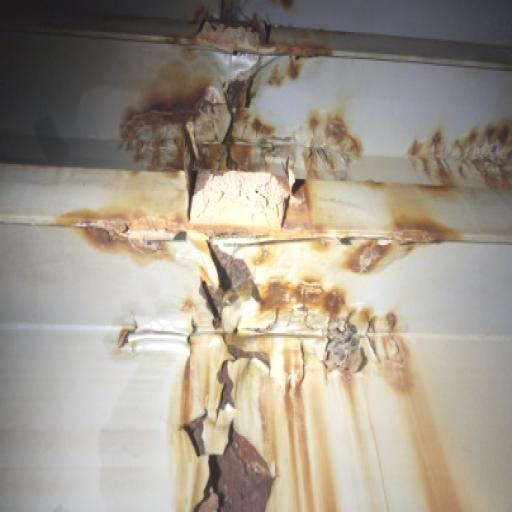Detect-rust-on-metal-surfaces: (37, 0, 469, 510), (347, 113, 512, 290)
